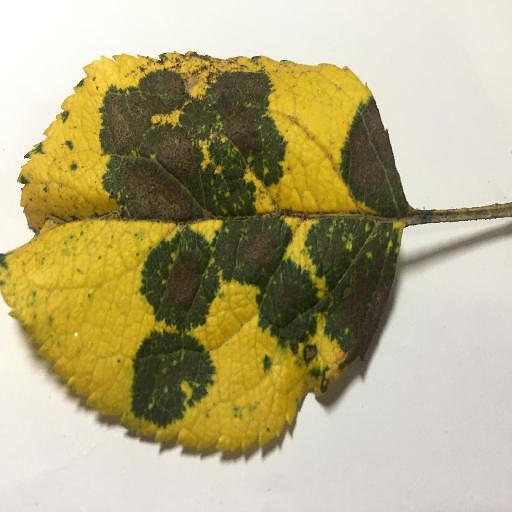Brown_Spot: (80, 77, 289, 217), (333, 87, 412, 216), (338, 247, 387, 332), (227, 220, 286, 271), (165, 258, 213, 301), (267, 279, 309, 328), (297, 346, 327, 367)
